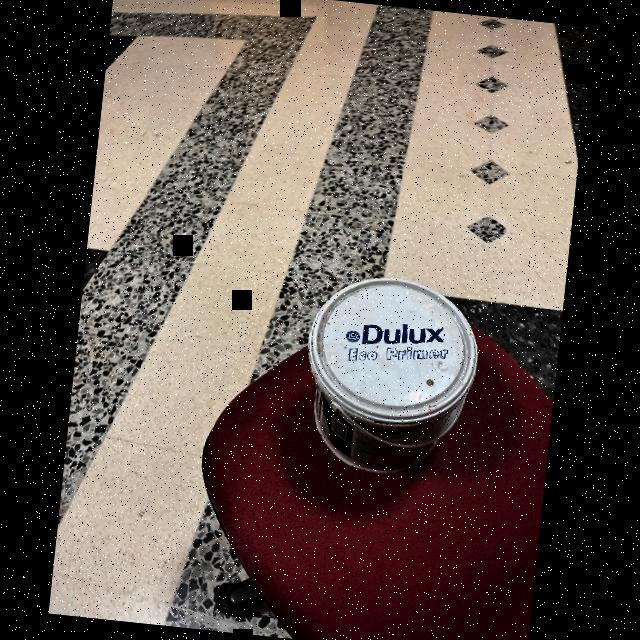paint_bucket: (280, 251, 490, 487)
